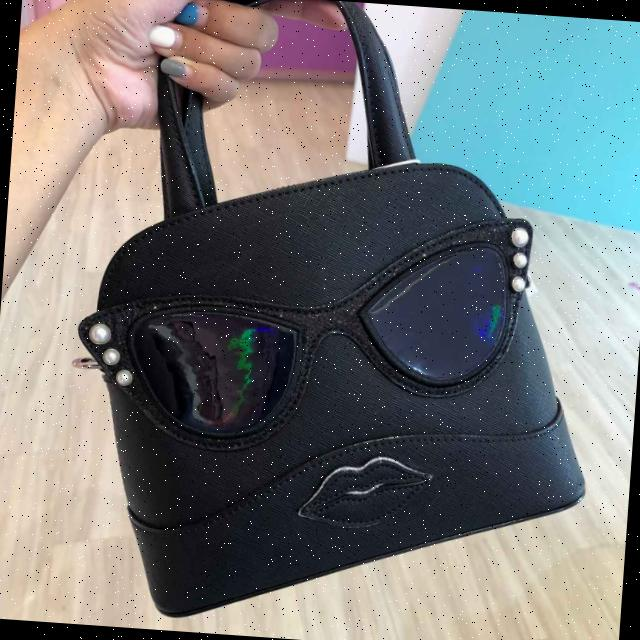Handbag: (61, 136, 605, 640)
